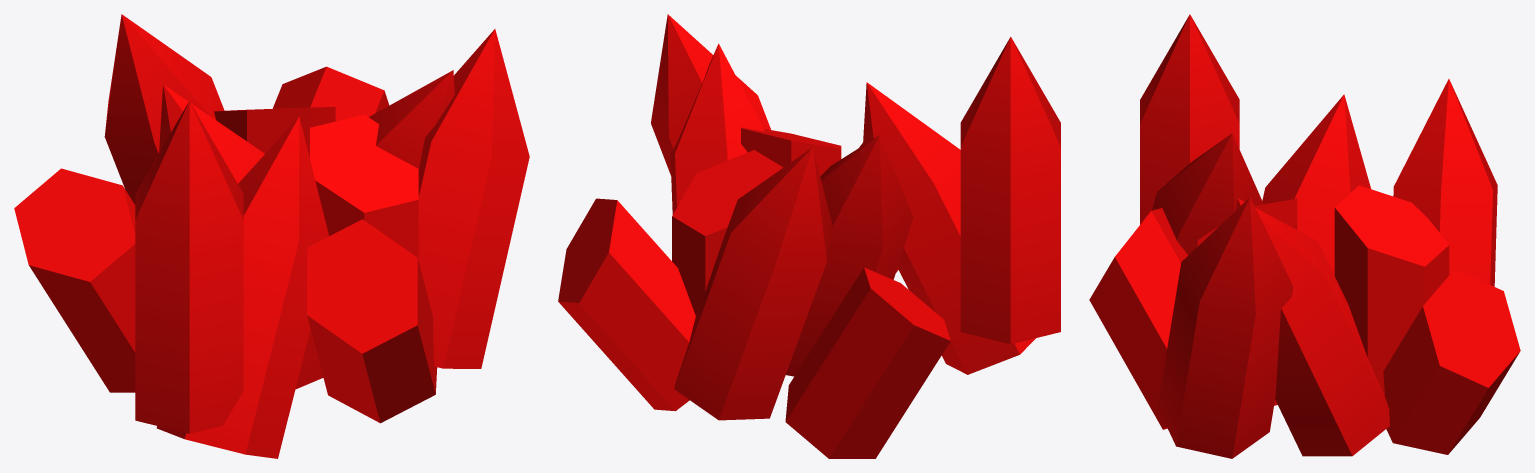
The model's file is firecrystalgrowth.obj.
3 renders of one model, left to right at view 1: azimuth 30°, elevation 25°; view 2: azimuth 150°, elevation 25°; view 3: azimuth 270°, elevation 25°, orthographic. The views are drawn at different scales.
Parts seen in each view (by area): view 1: g0; view 2: g0; view 3: g0.
Part boxes in pixels (left/top/right/bottom): g0: left=14, top=14, right=529, bottom=458; g0: left=558, top=14, right=1060, bottom=458; g0: left=1089, top=14, right=1520, bottom=458.
Bounding box in the file's own units: 0.9786 × 0.8778 × 0.9762.
